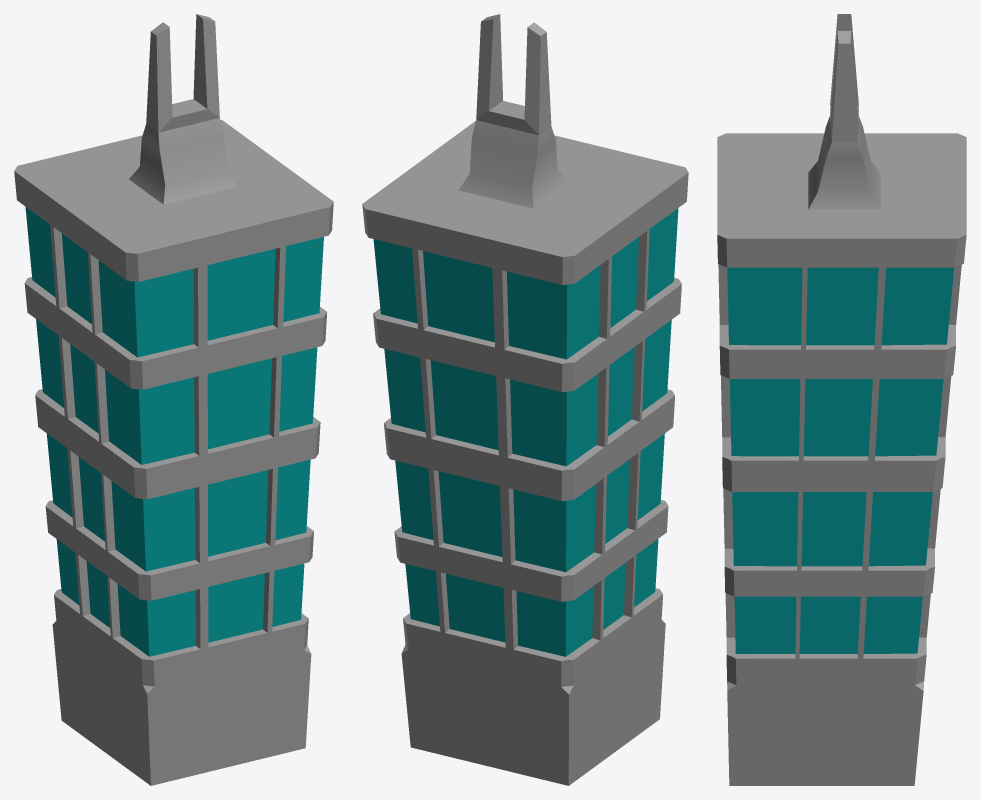
Rendered from BuildingOne.fbx.
3 renders of one model, left to right at view 1: azimuth 30°, elevation 25°; view 2: azimuth 150°, elevation 25°; view 3: azimuth 270°, elevation 25°, orthographic. The views are drawn at different scales.
Visible parts, largest first — view 1: pCube45; view 2: pCube45; view 3: pCube45.
Part boxes in pixels (x1,y1,x2,y2): pCube45: (14,14,333,785); pCube45: (362,14,688,785); pCube45: (717,14,966,785).
Bounding box in the file's own units: 1.35 × 4.34 × 1.35.
